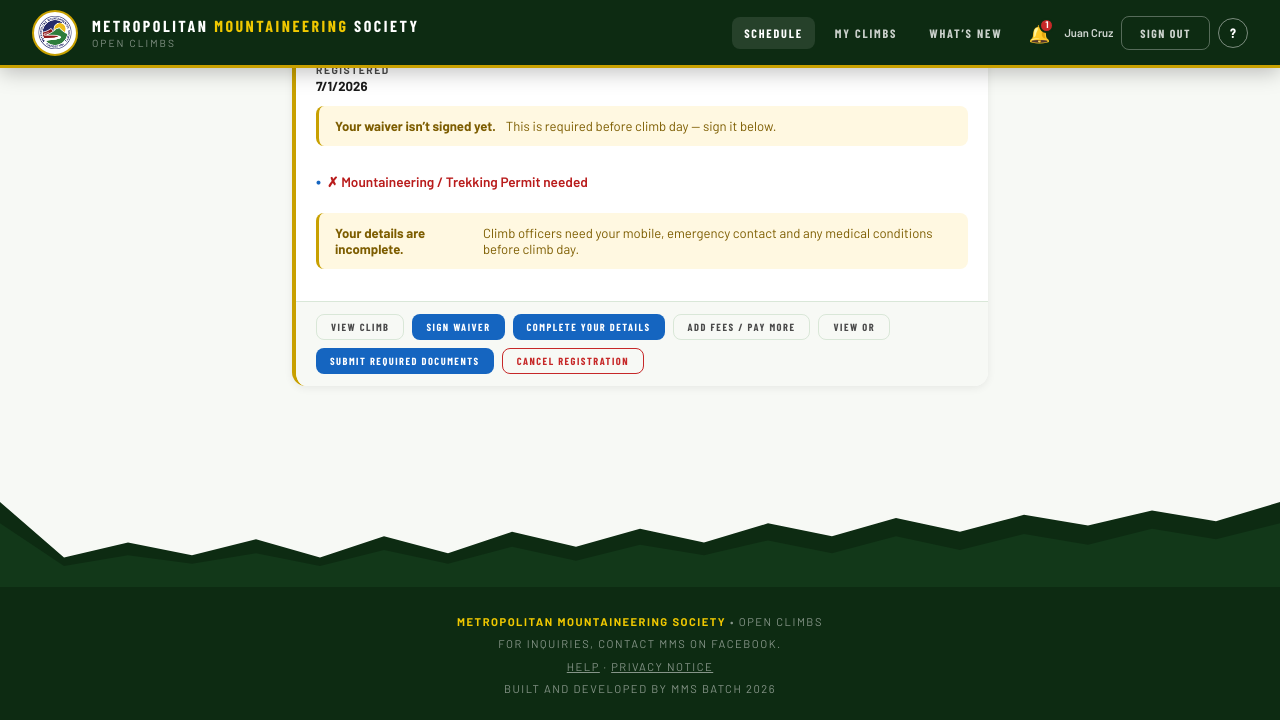
Test: MyRegistrations page › shows a Submit Required Documents button with a download link when a permit is required and not yet uploaded
(page scrolled)
Click the button "Submit Required Documents". click: [405, 361]
box: [316,348,494,374]
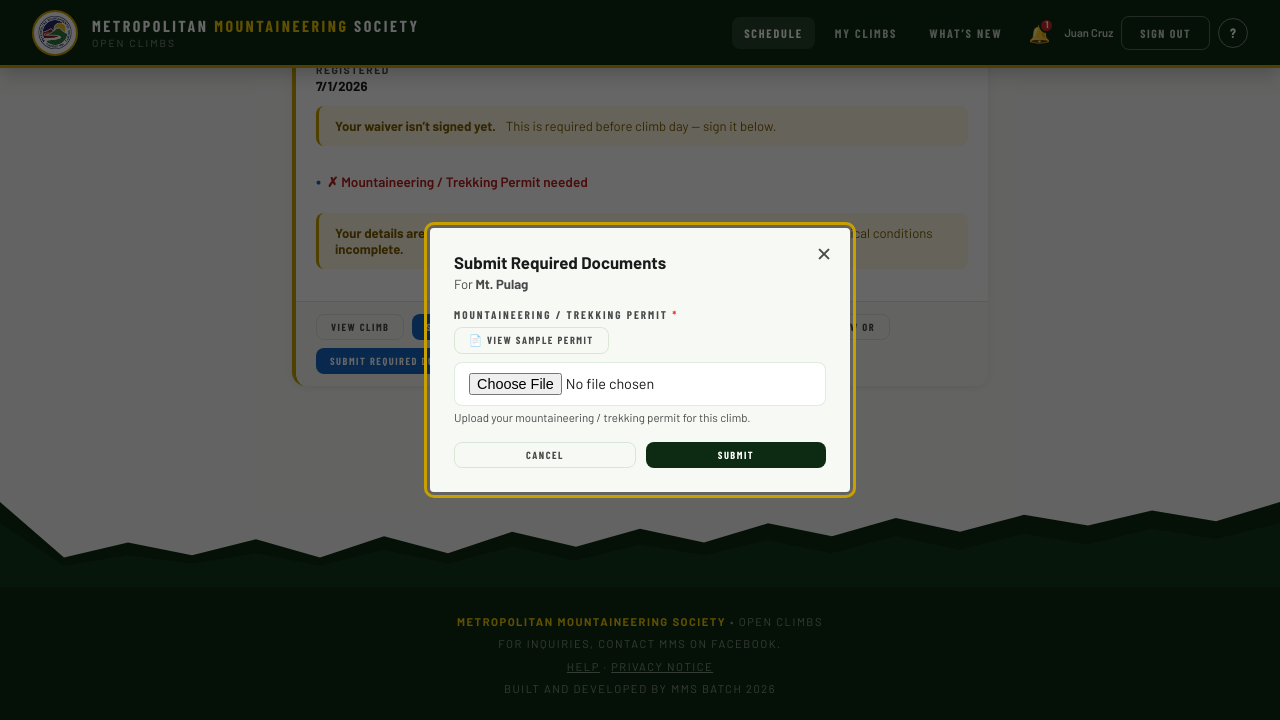
Now the link "📄 View Sample Permit" is shown, box [454,327,609,354]
